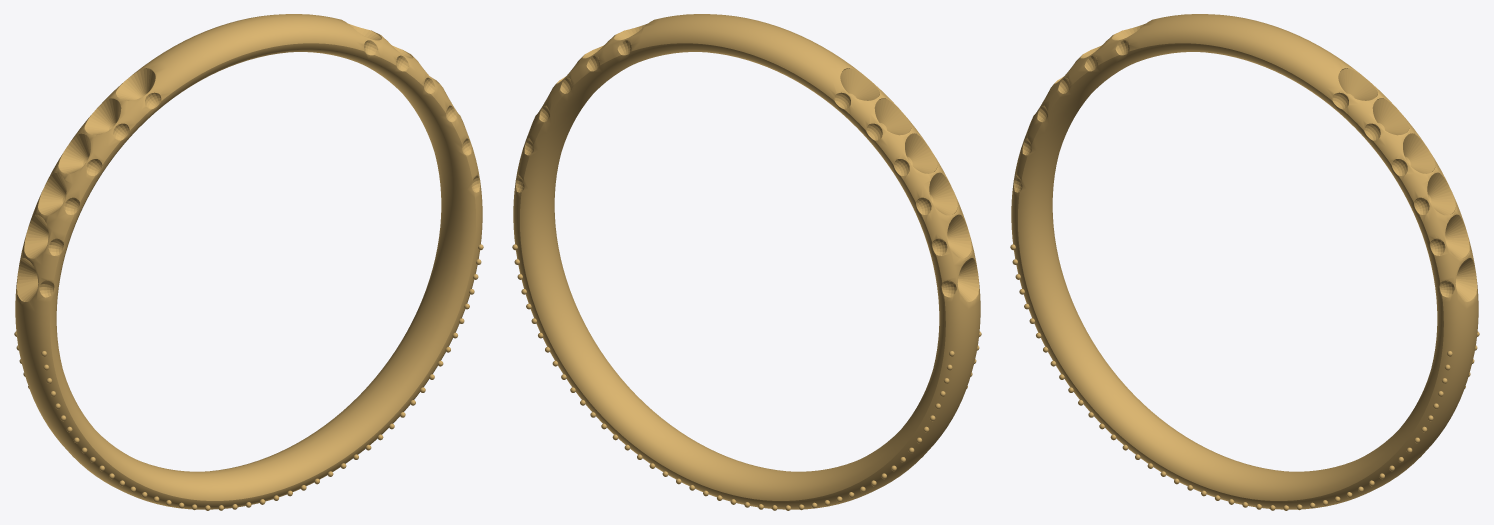
Rendered from vintage-scalloped-u-cut.glb.
3 views of the same model, side by side, from view 1: azimuth 30°, elevation 25°; view 2: azimuth 150°, elevation 25°; view 3: azimuth 330°, elevation 25° (orthographic).
Parts seen in each view (by area): view 1: Band; view 2: Band; view 3: Band.
Boxes of the visible parts, left/top/right/bottom form: Band: left=15, top=14, right=482, bottom=509; Band: left=513, top=14, right=980, bottom=509; Band: left=1011, top=14, right=1478, bottom=509.
Bounding box in the file's own units: 19.6 × 19.6 × 2.22.
